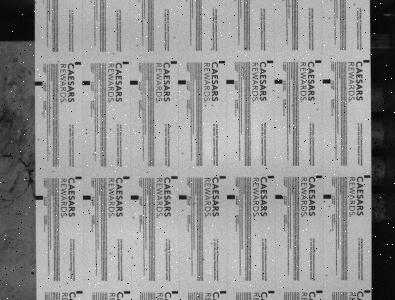qblock: (274, 79, 283, 84), (130, 195, 139, 200), (275, 194, 284, 199), (130, 80, 138, 85), (83, 195, 91, 200), (323, 194, 331, 199), (35, 81, 42, 86), (323, 79, 331, 83), (82, 81, 90, 85), (226, 80, 234, 84), (178, 80, 186, 84), (179, 195, 187, 199), (227, 195, 235, 199), (35, 196, 43, 200)
smallqblock: (363, 59, 370, 63), (219, 175, 226, 179), (171, 60, 177, 64), (219, 60, 225, 64), (172, 175, 178, 179), (75, 176, 82, 179), (364, 175, 371, 178), (76, 290, 83, 293), (268, 290, 275, 293), (172, 290, 179, 293), (220, 290, 227, 293), (316, 290, 323, 293), (364, 289, 371, 292), (315, 60, 322, 63), (75, 62, 81, 65), (267, 60, 273, 63), (123, 176, 129, 179), (268, 175, 274, 178), (316, 175, 322, 178), (124, 290, 130, 293), (123, 61, 129, 64)
